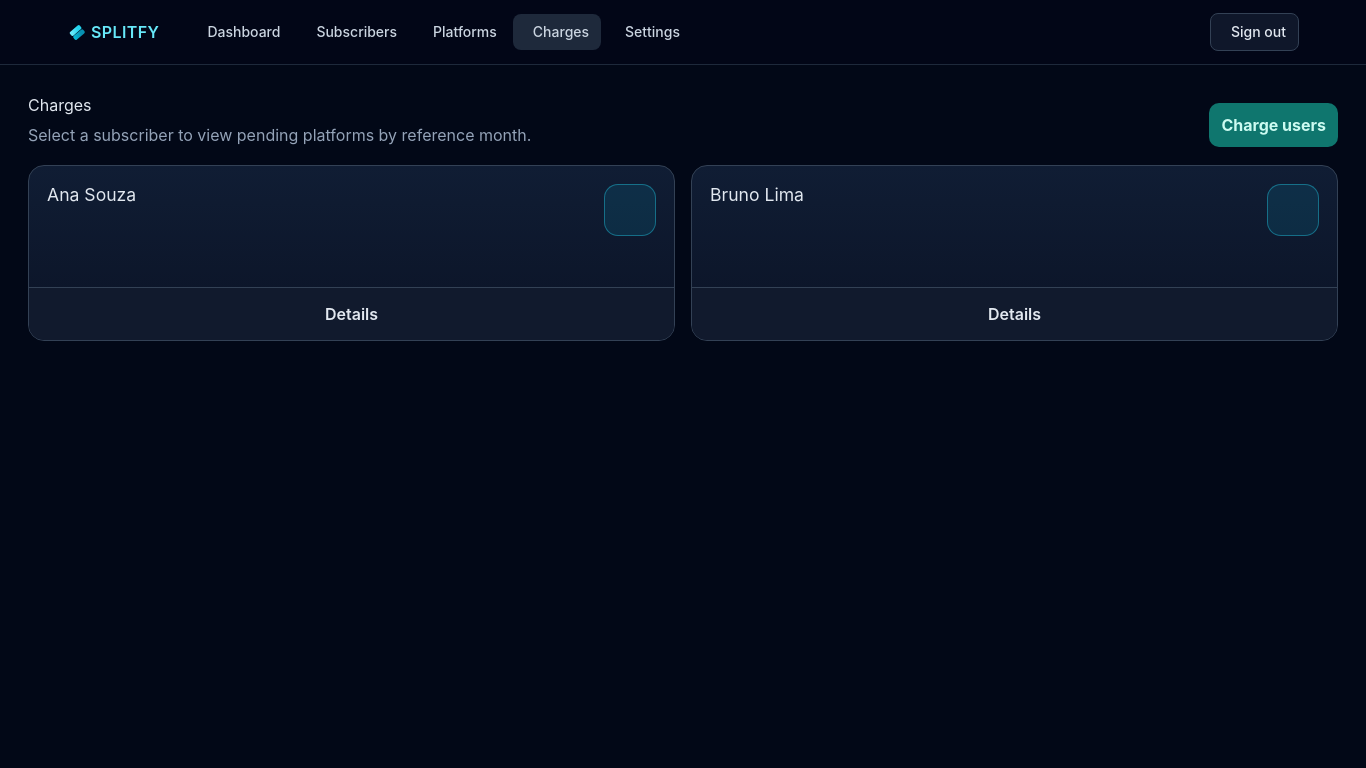
Regression - Billing charges › validates bulk charge form and submits successfully
This screenshot has width=1366, height=768.
Click the button with test id "billing-open-bulk-charge" at (1274, 125), box x1=1209 y1=103 x2=1338 y2=147
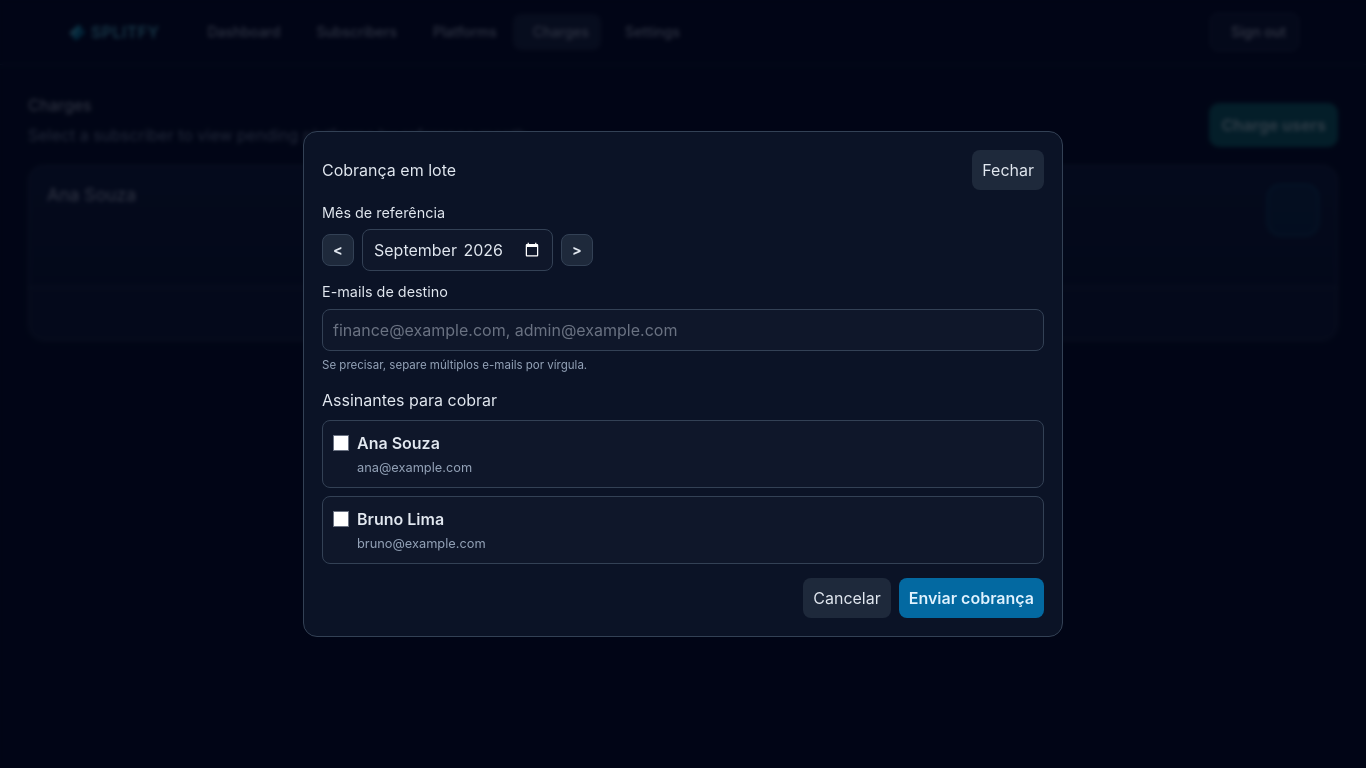
Check: the element with test id "billing-bulk-modal" is shown, box x1=303 y1=131 x2=1063 y2=638
Click the button with test id "billing-bulk-submit" at (972, 598), box x1=899 y1=578 x2=1044 y2=618
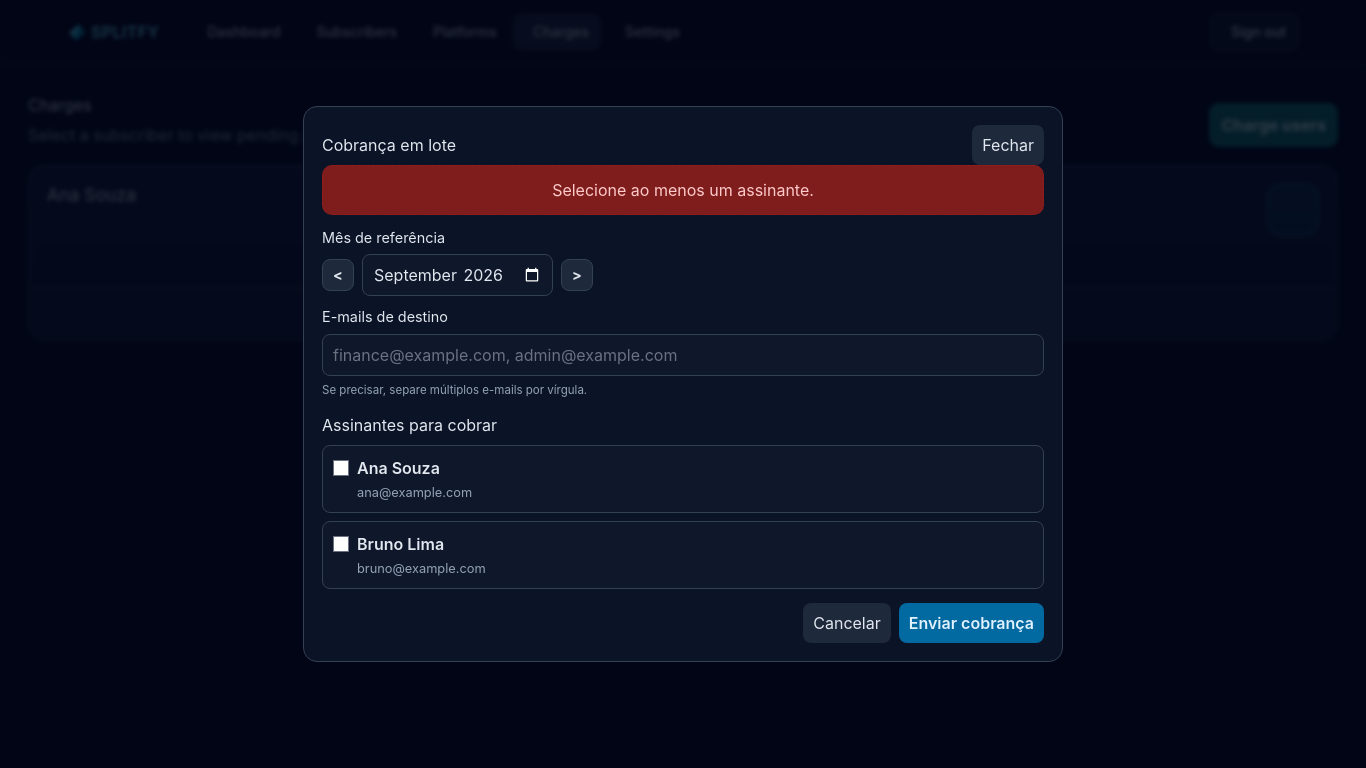
Check: the text "Selecione ao menos um assinante." is shown, box x1=322 y1=165 x2=1044 y2=215
Check the checkbox with test id "billing-bulk-subscriber-1" at (341, 468), box x1=333 y1=460 x2=349 y2=476
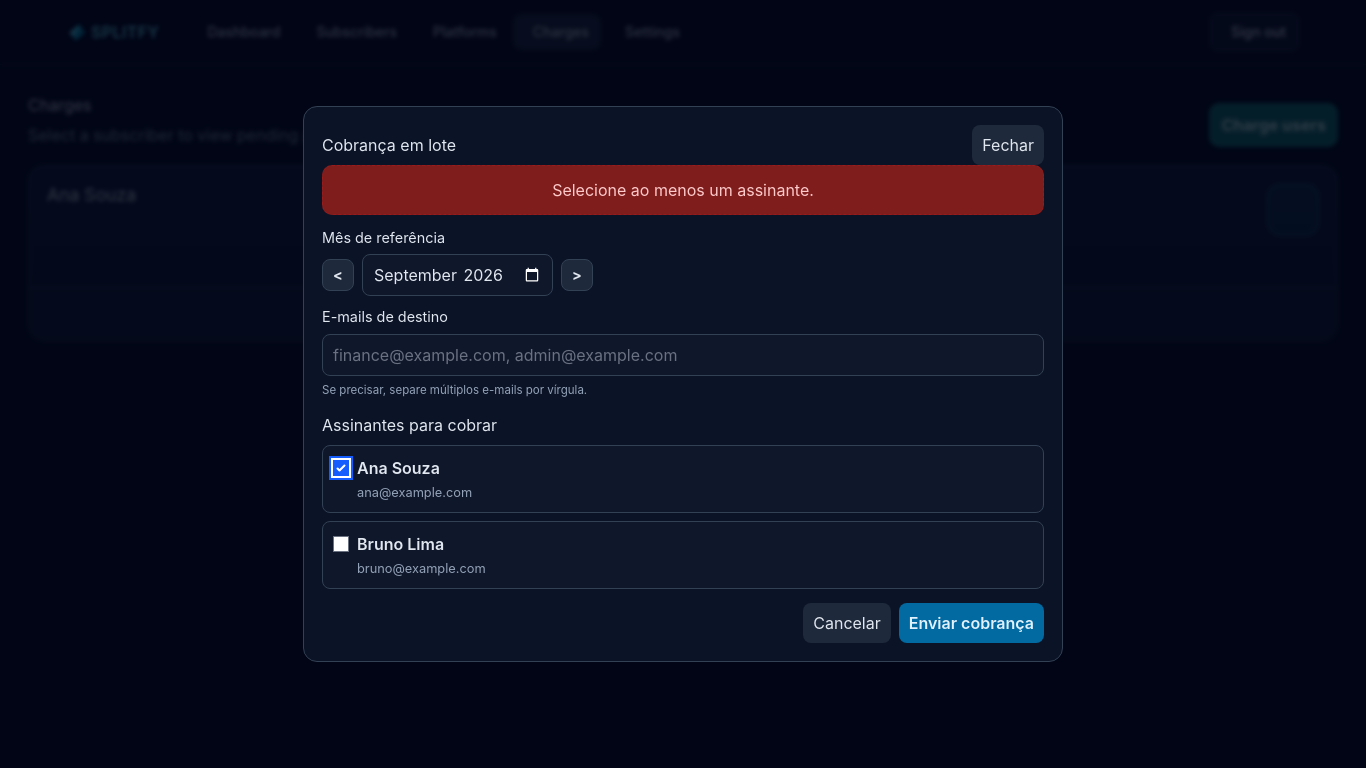
Click the button with test id "billing-bulk-submit" at (972, 623), box x1=899 y1=603 x2=1044 y2=643
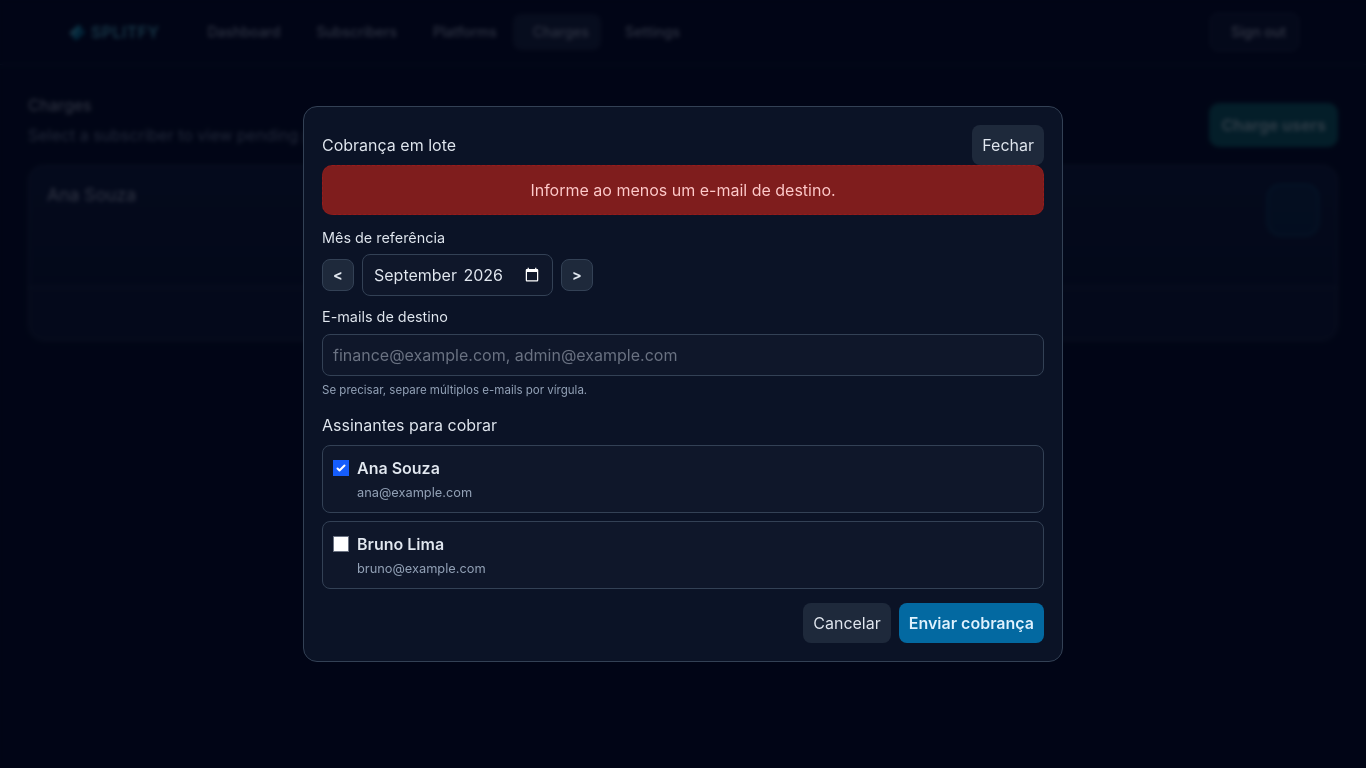
Check: the text "Informe ao menos um e-mail de destino." is shown, box x1=322 y1=165 x2=1044 y2=215
Type "finance@splitfy.app" into the field with test id "billing-bulk-emails" at (683, 355), box x1=322 y1=334 x2=1044 y2=376
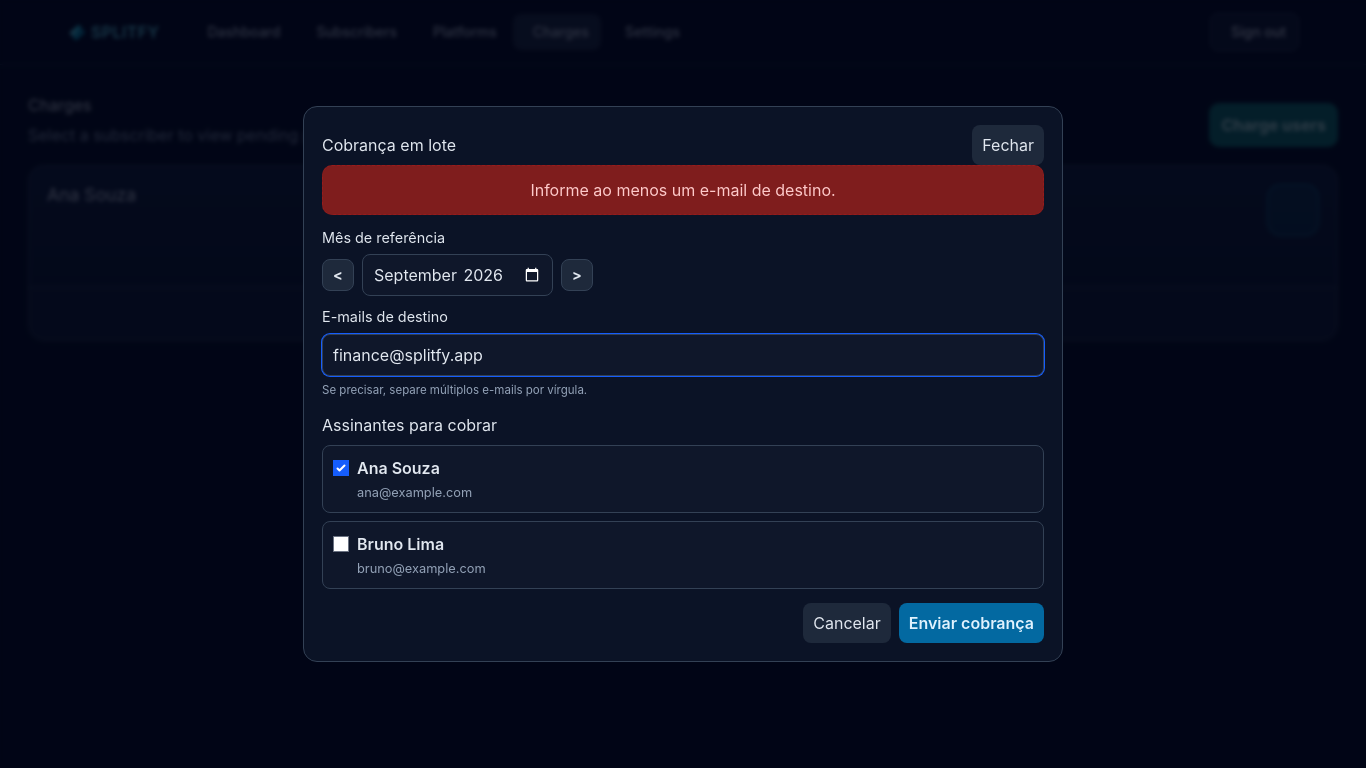
Click the button with test id "billing-bulk-submit" at (972, 623), box x1=899 y1=603 x2=1044 y2=643
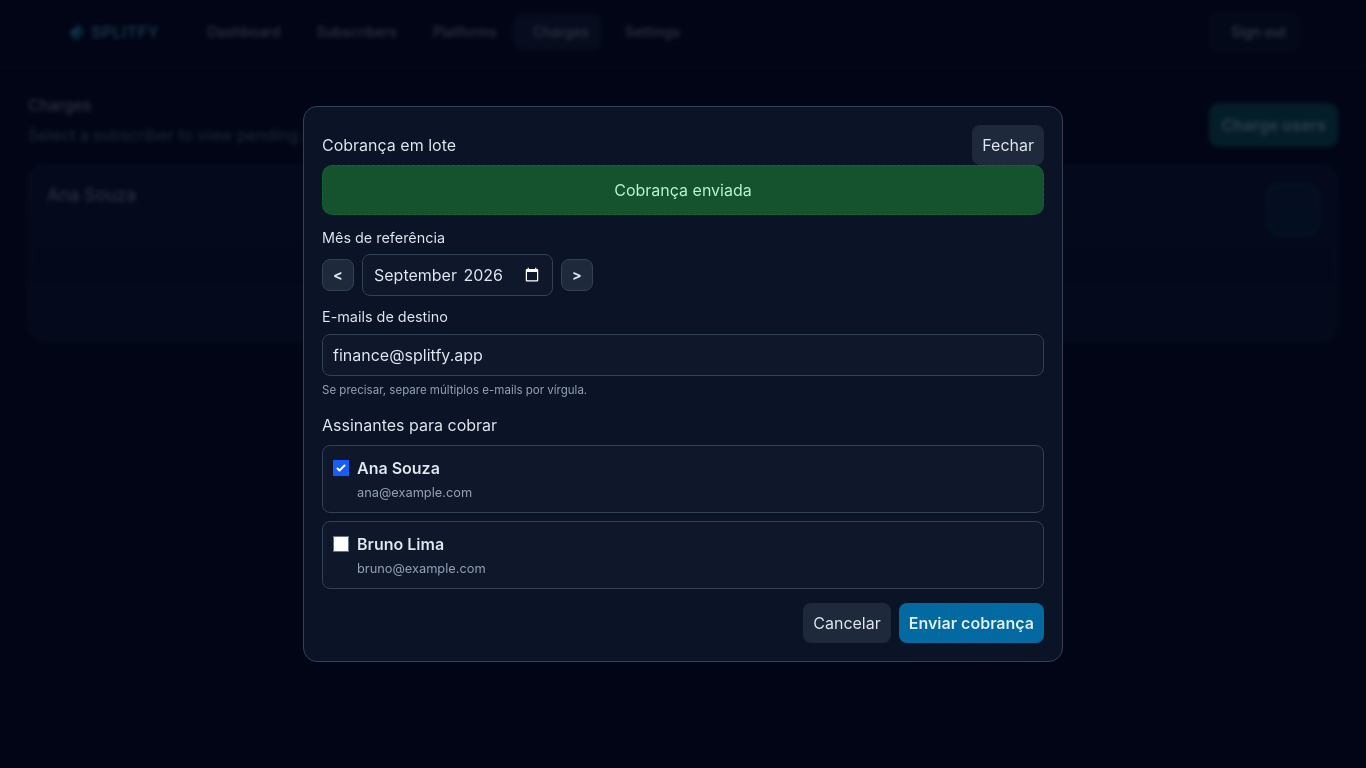
Check: the text "Cobrança enviada" is shown, box x1=322 y1=165 x2=1044 y2=215
